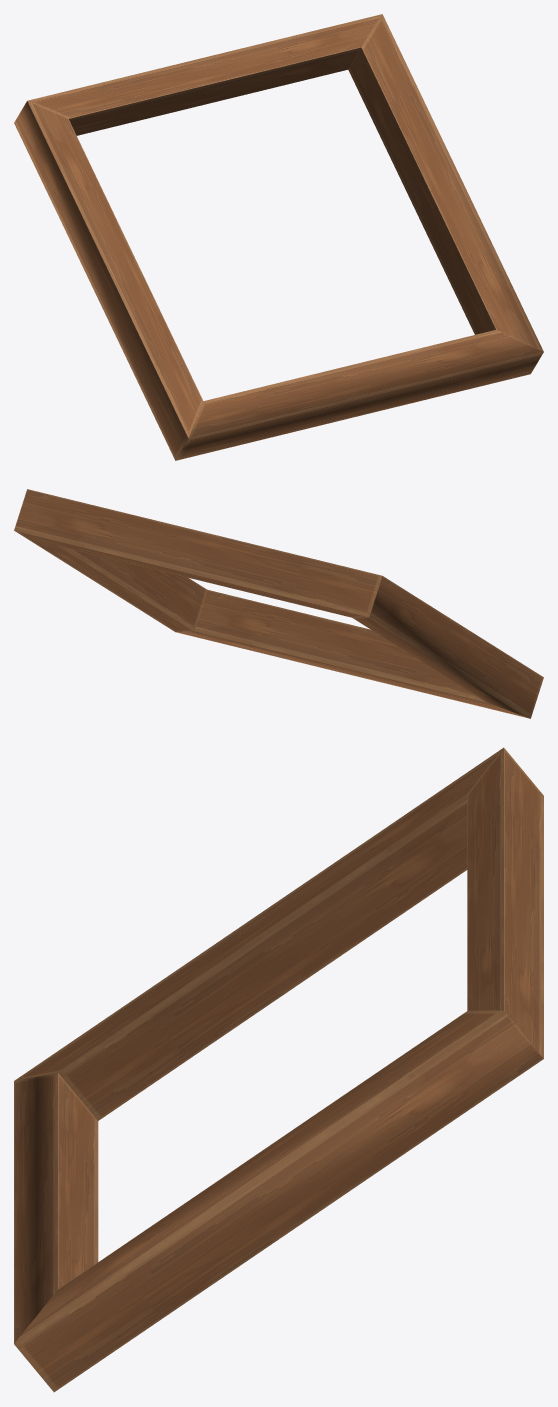
The model's file is sm_skywindow_01.fbx.
3 views of the same model, one above another, from view 1: azimuth 30°, elevation 25°; view 2: azimuth 150°, elevation 25°; view 3: azimuth 270°, elevation 25° (orthographic). The views are drawn at different scales.
Parts seen in each view (by area): view 1: skywindow; view 2: skywindow; view 3: skywindow.
Boxes of the visible parts, x1,y1,x2,y2 form: skywindow: [14, 14, 543, 460]; skywindow: [14, 489, 543, 718]; skywindow: [14, 747, 543, 1392].
Size of the model in its own units: 273 by 185 by 232.
